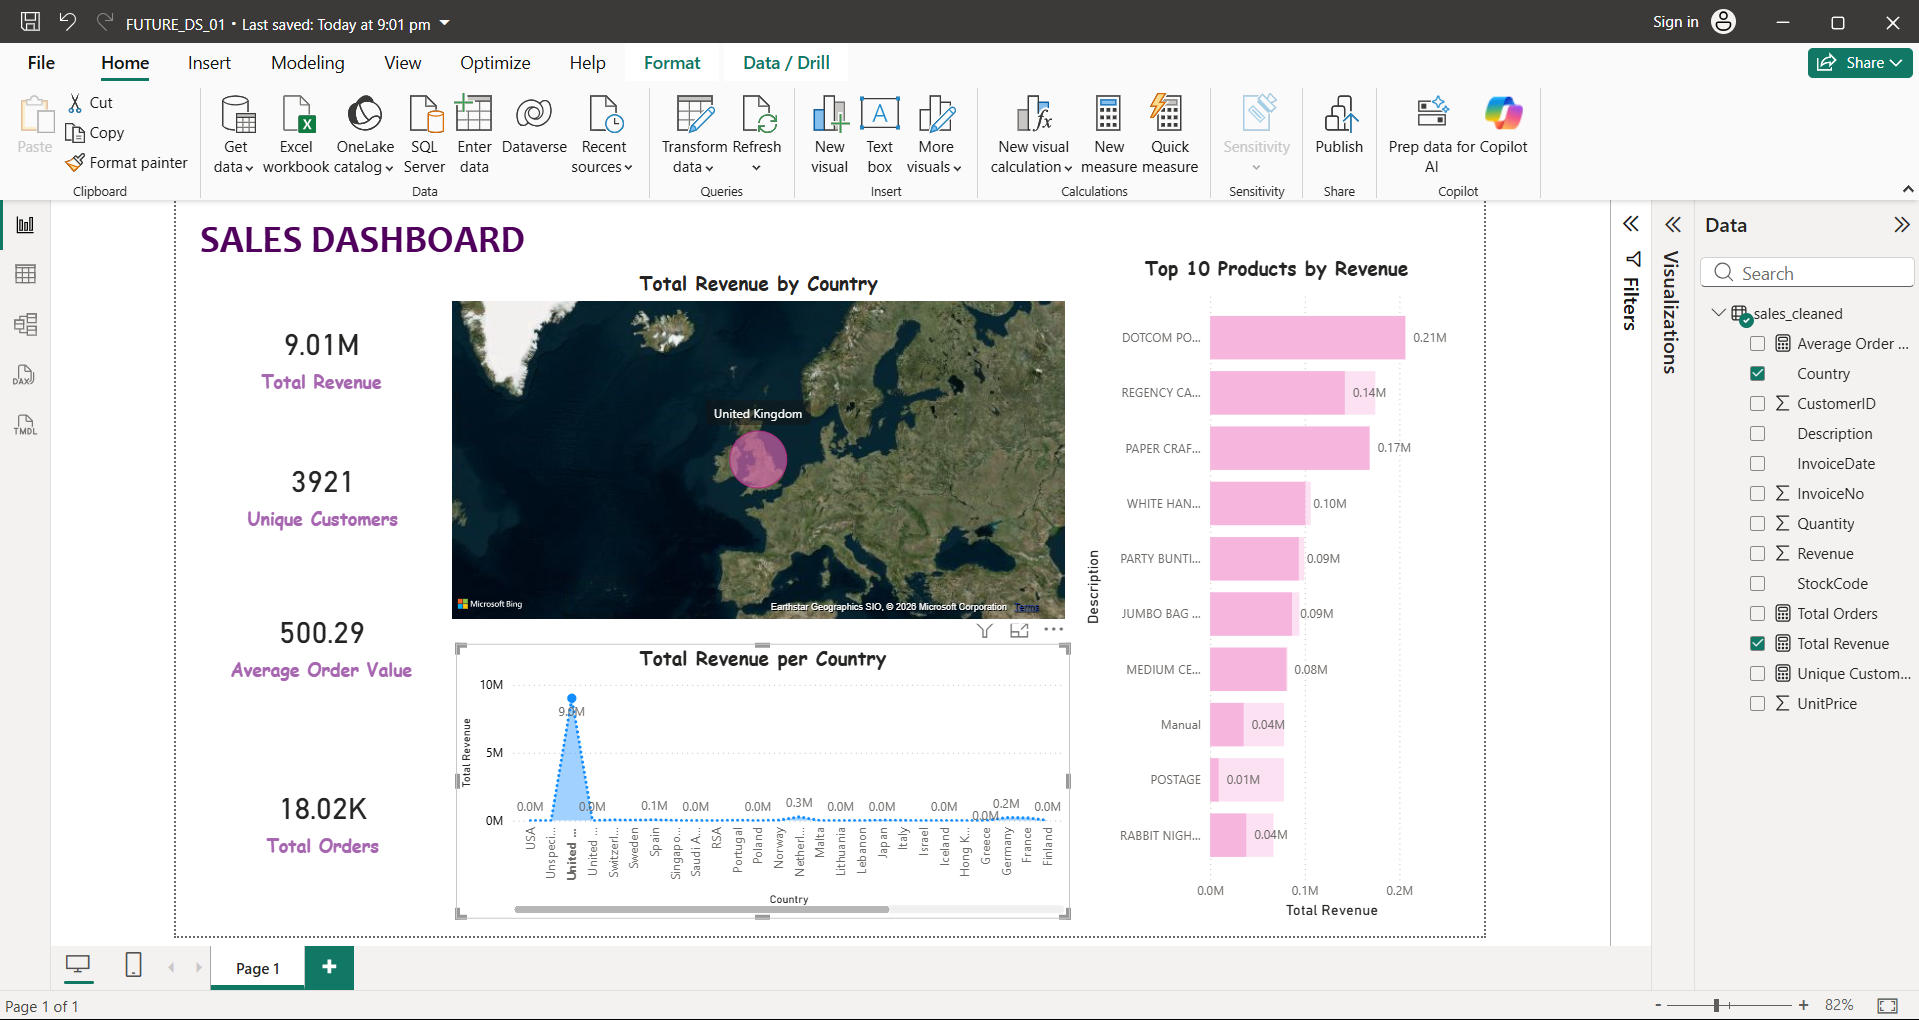

The dashboard page shown, as its layout file describes it:
{"tool":"powerbi","page":{"name":"Page 1","canvas":[1280,720],"ordinal":0},"visuals":[{"type":"card","fields":{"Values":["sales_cleaned.Total Revenue"]},"box":[2.4,94.2,280,116.2],"z":0},{"type":"card","fields":{"Values":["sales_cleaned.Unique Customers"]},"box":[3.7,233.6,280,105.2],"z":1},{"type":"card","fields":{"Values":["sales_cleaned.AOV"]},"box":[2.4,358.3,280,150.4],"z":2},{"type":"card","fields":{"Values":["sales_cleaned.Total Orders"]},"box":[3.7,519.7,280,172.4],"z":3},{"type":"lineChart","title":"Total Revenue per Country","fields":{"Category":["sales_cleaned.Country"],"Y":["sales_cleaned.Total Revenue"]},"box":[273.9,434.1,600.4,269],"z":4},{"type":"barChart","title":"Top 10 Products by Revenue","fields":{"Category":["sales_cleaned.Description"],"Y":["sales_cleaned.Total Revenue"]},"box":[884.1,52.6,385.2,655.4],"z":5},{"type":"map","fields":{"Category":["sales_cleaned.Country"],"Size":["sales_cleaned.Total Revenue"]},"box":[265.4,67.3,609,347.3],"z":6},{"type":"textbox","box":[18.3,11,338.7,56.3],"z":7}]}

Visuals, with their boxes on the page's 1280x720 design canvas (x1, y1, x2, y2). These are canvas units, not pixel positions in the 1919x1020 screenshot, which may show the page scaled, cropped or inside an application window:
card - sales_cleaned.Total Revenue: l=2, t=94, r=282, b=210
card - sales_cleaned.Unique Customers: l=4, t=234, r=284, b=339
card - sales_cleaned.AOV: l=2, t=358, r=282, b=509
card - sales_cleaned.Total Orders: l=4, t=520, r=284, b=692
"Total Revenue per Country" lineChart: l=274, t=434, r=874, b=703
"Top 10 Products by Revenue" barChart: l=884, t=53, r=1269, b=708
map - sales_cleaned.Country x sales_cleaned.Total Revenue: l=265, t=67, r=874, b=415
textbox: l=18, t=11, r=357, b=67
